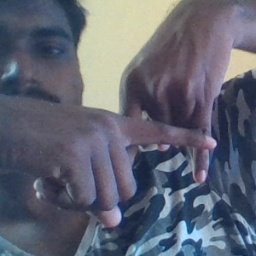H: (103, 66, 233, 199)
